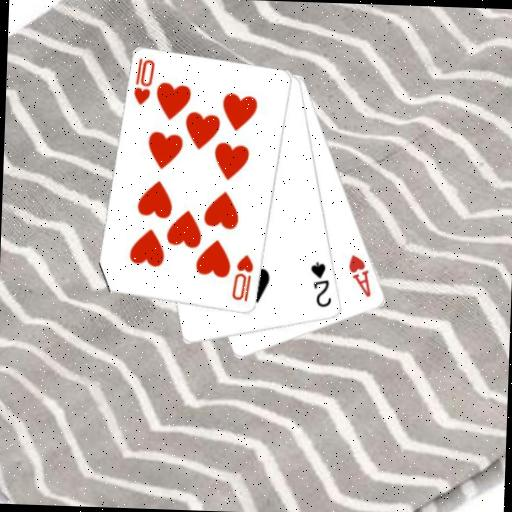10H: (130, 55, 157, 108), (229, 251, 256, 303)
2S: (306, 258, 334, 309)
AH: (345, 251, 375, 299)
